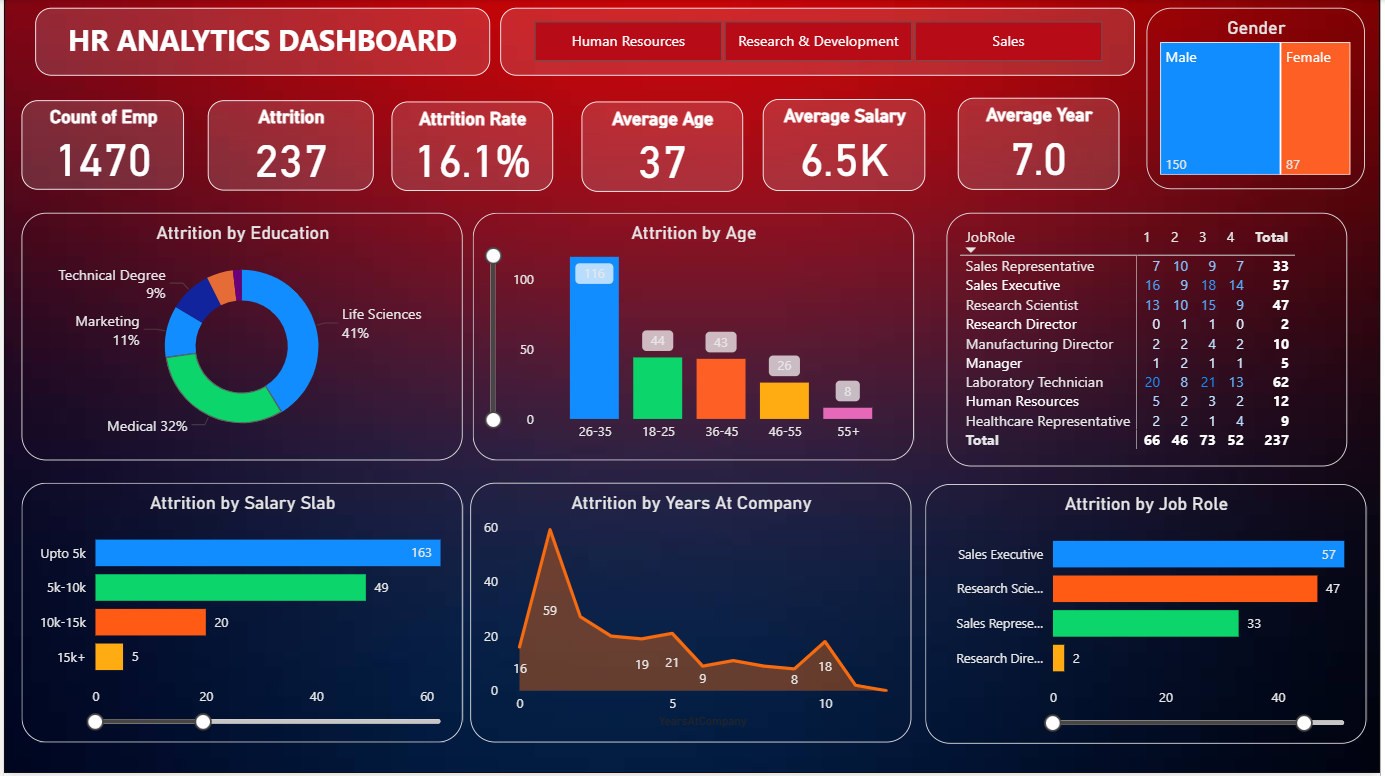

The page's visual inventory and layout, read from the dashboard file:
{"tool":"powerbi","page":{"name":"Page 1","canvas":[1280,720],"ordinal":0},"visuals":[{"type":"card","title":"Count of Emp","fields":{"Values":["CountNonNull(HR_Analytics.EmpID)"]},"box":[15.7,94.3,151.4,82.9],"z":0},{"type":"textbox","box":[28.6,8.6,422.9,62.9],"z":1000},{"type":"card","title":"Attrition","fields":{"Values":["Sum(HR_Analytics.AttritionCount)"]},"box":[190,94.3,154.3,84.3],"z":2000},{"type":"card","title":"Attrition Rate","fields":{"Values":["HR_Analytics.Attritionrate"]},"box":[360,95.7,150,82.9],"z":3000},{"type":"donutChart","title":" Attrition by Education","fields":{"Category":["HR_Analytics.EducationField"],"Y":["CountNonNull(HR_Analytics.Attrition)"]},"box":[15.7,198.6,410,230],"z":4000},{"type":"lineClusteredColumnComboChart","title":" Attrition by Age","fields":{"Y":["Sum(HR_Analytics.AttritionCount)"],"Category":["HR_Analytics.AgeGroup"]},"box":[435.7,198.6,410,230],"z":5000},{"type":"clusteredBarChart","title":"Attrition by Salary Slab","fields":{"Category":["HR_Analytics.SalarySlab"],"Y":["Sum(HR_Analytics.AttritionCount)"]},"box":[15.7,450,410,241.4],"z":6000},{"type":"stackedAreaChart","title":"Attrition by Years At Company","fields":{"Category":["HR_Analytics.YearsAtCompany"],"Y":["Sum(HR_Analytics.AttritionCount)"]},"box":[434.3,450,410,241.4],"z":7000},{"type":"clusteredBarChart","title":"Attrition by Job Role","fields":{"Y":["Sum(HR_Analytics.AttritionCount)"],"Category":["HR_Analytics.JobRole"]},"box":[857.1,451.4,410,241.4],"z":8000},{"type":"treemap","title":" Gender","fields":{"Group":["HR_Analytics.Gender"],"Values":["Sum(HR_Analytics.AttritionCount)"]},"box":[1062.9,8.6,202.9,168.6],"z":9000},{"type":"card","title":"Average Age","fields":{"Values":["Avg(HR_Analytics.Age)"]},"box":[537.1,95.7,150,84.3],"z":10000},{"type":"card","title":"Average Salary","fields":{"Values":["Avg(HR_Analytics.MonthlyIncome)"]},"box":[705.7,92.9,151.4,85.7],"z":11000},{"type":"card","title":"Average Year","fields":{"Values":["Avg(HR_Analytics.YearsAtCompany)"]},"box":[887.1,91.4,150,85.7],"z":12000},{"type":"pivotTable","fields":{"Rows":["HR_Analytics.JobRole"],"Columns":["HR_Analytics.JobSatisfaction"],"Values":["Sum(HR_Analytics.AttritionCount)"]},"box":[877.1,198.6,372.9,235.7],"z":13000},{"type":"slicer","fields":{"Values":["HR_Analytics.Department"]},"box":[461.4,8.6,590,62.9],"z":14000}]}

Visuals, with their boxes in screenshot pixels (x1, y1, x2, y2), scaled from the page's 1280x720 canvas onto the 1385x776 screenshot:
"Count of Emp" card: BBox(17, 102, 181, 191)
textbox: BBox(31, 9, 489, 77)
"Attrition" card: BBox(206, 102, 373, 192)
"Attrition Rate" card: BBox(390, 103, 552, 192)
" Attrition by Education" donutChart: BBox(17, 214, 461, 462)
" Attrition by Age" lineClusteredColumnComboChart: BBox(471, 214, 915, 462)
"Attrition by Salary Slab" clusteredBarChart: BBox(17, 485, 461, 745)
"Attrition by Years At Company" stackedAreaChart: BBox(470, 485, 914, 745)
"Attrition by Job Role" clusteredBarChart: BBox(927, 487, 1371, 747)
" Gender" treemap: BBox(1150, 9, 1370, 191)
"Average Age" card: BBox(581, 103, 743, 194)
"Average Salary" card: BBox(764, 100, 927, 192)
"Average Year" card: BBox(960, 99, 1122, 191)
pivotTable - HR_Analytics.JobRole x HR_Analytics.JobSatisfaction: BBox(949, 214, 1353, 468)
slicer - HR_Analytics.Department: BBox(499, 9, 1138, 77)
